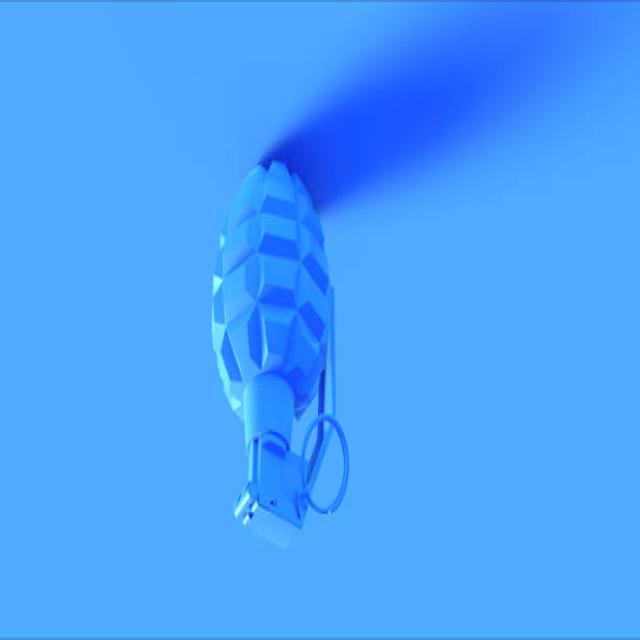grenade: (209, 150, 362, 557)
